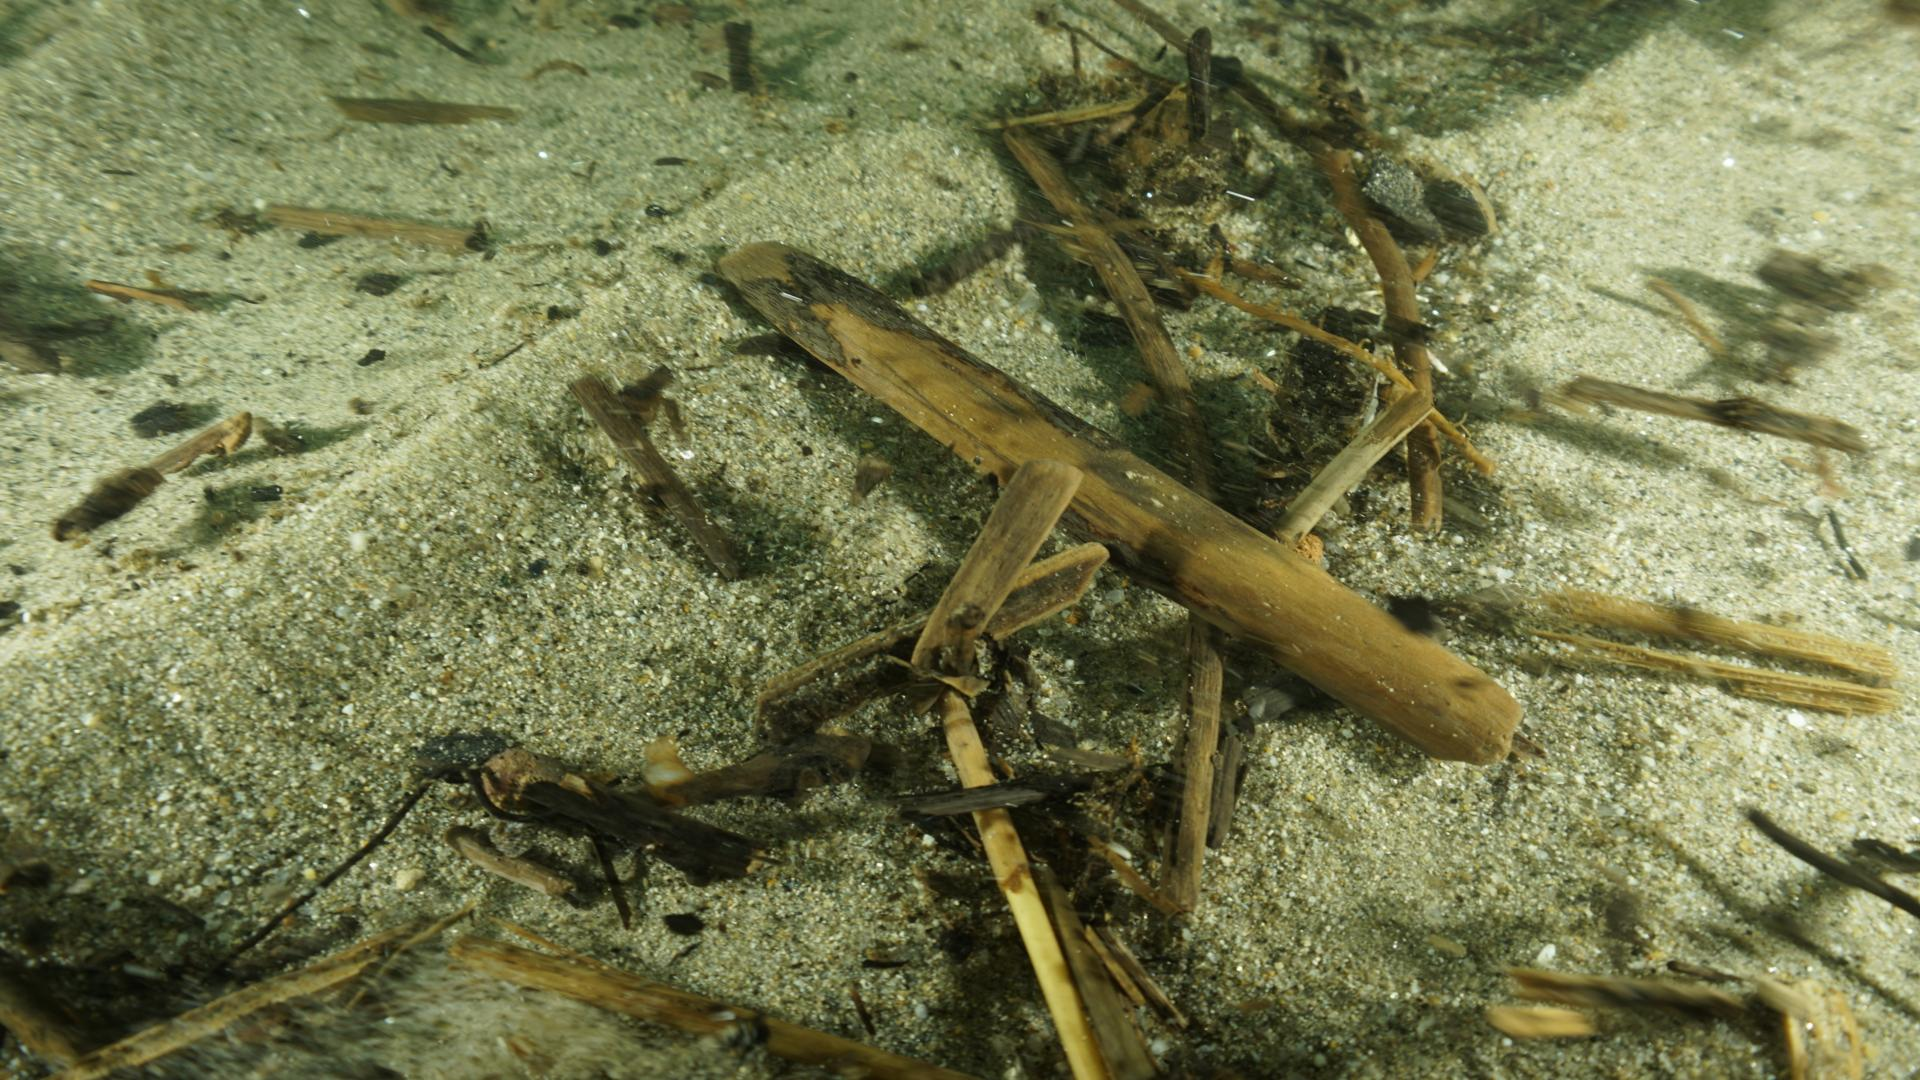wood: (719, 237, 1515, 761)
